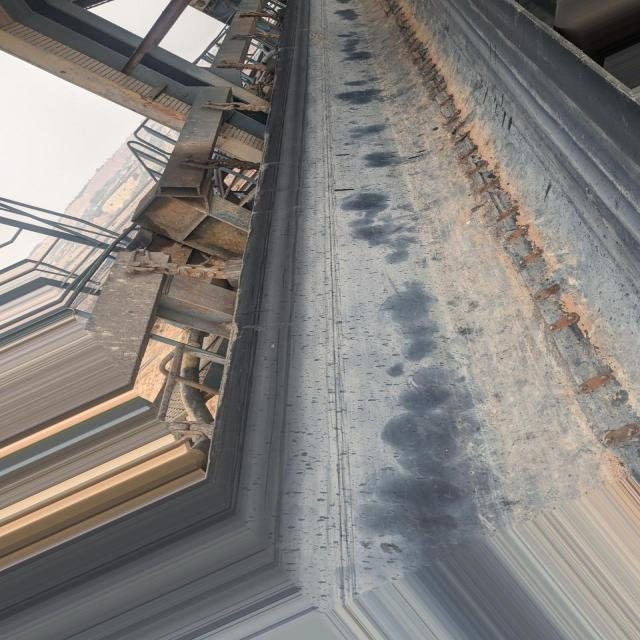patch work: (380, 0, 640, 485)
